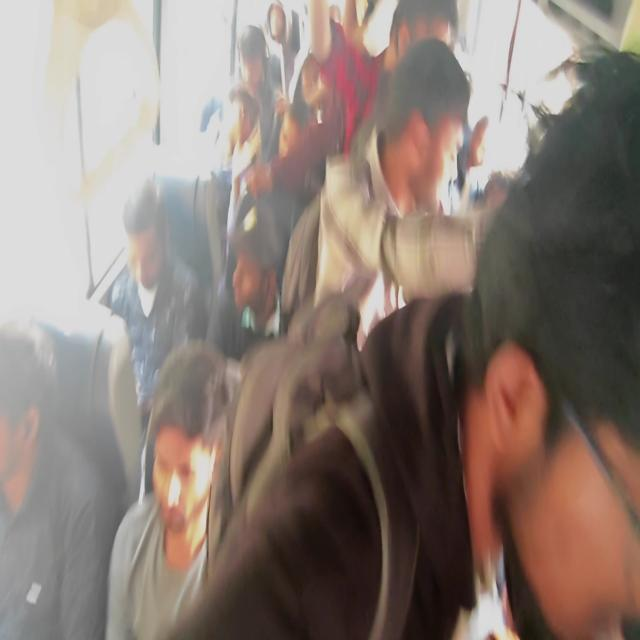person: (487, 163, 639, 640), (127, 394, 320, 630), (0, 370, 76, 637), (110, 192, 204, 328), (386, 53, 452, 197), (218, 230, 292, 340), (383, 0, 462, 89), (273, 88, 322, 196), (469, 107, 504, 178), (223, 90, 254, 139), (235, 27, 262, 70), (266, 4, 290, 40), (319, 6, 333, 28)
